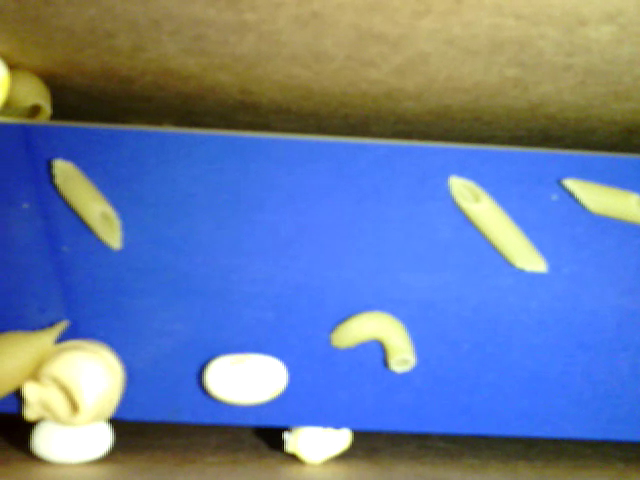elbow: (327, 307, 414, 373)
penne: (445, 172, 549, 276), (50, 155, 123, 251), (559, 176, 639, 224)
shell: (1, 321, 68, 399), (4, 66, 54, 126)
tortellini: (18, 334, 125, 421)
